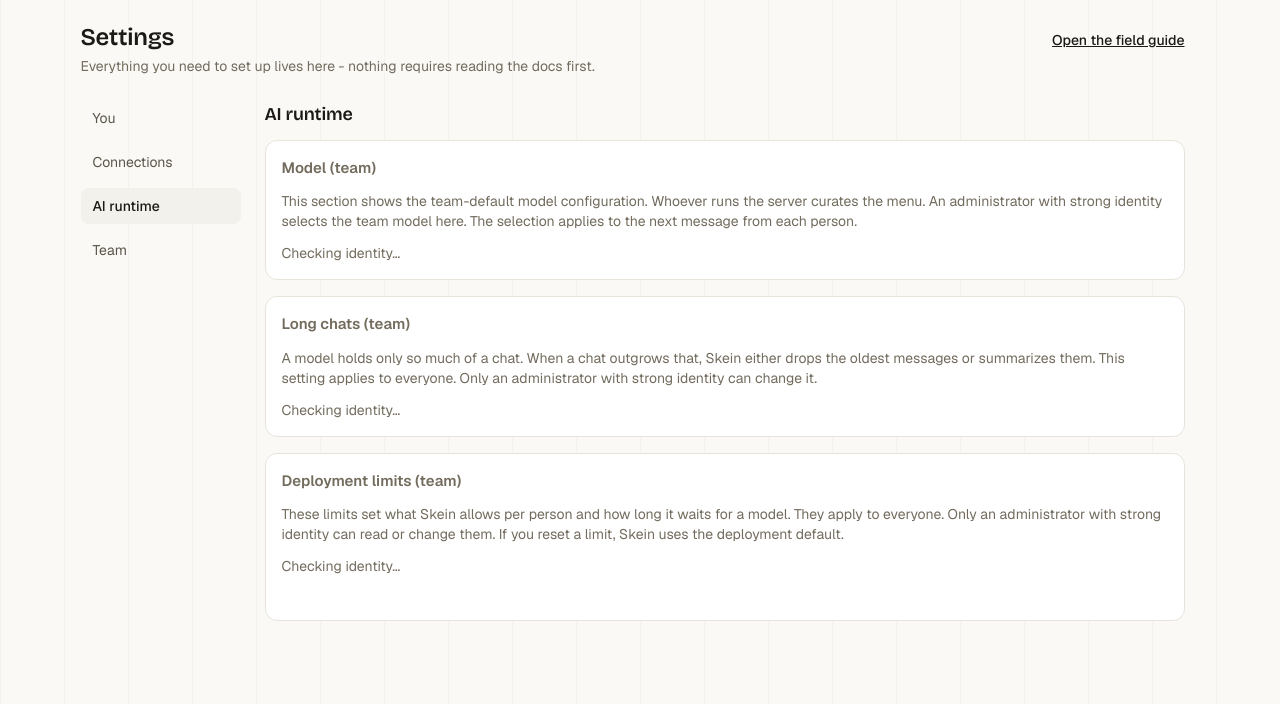
Scenario: the model section › keeps a stored pick visible and clearable when the menu vanishes
Click the link "AI runtime" at (160, 206), box [80,188,240,224]
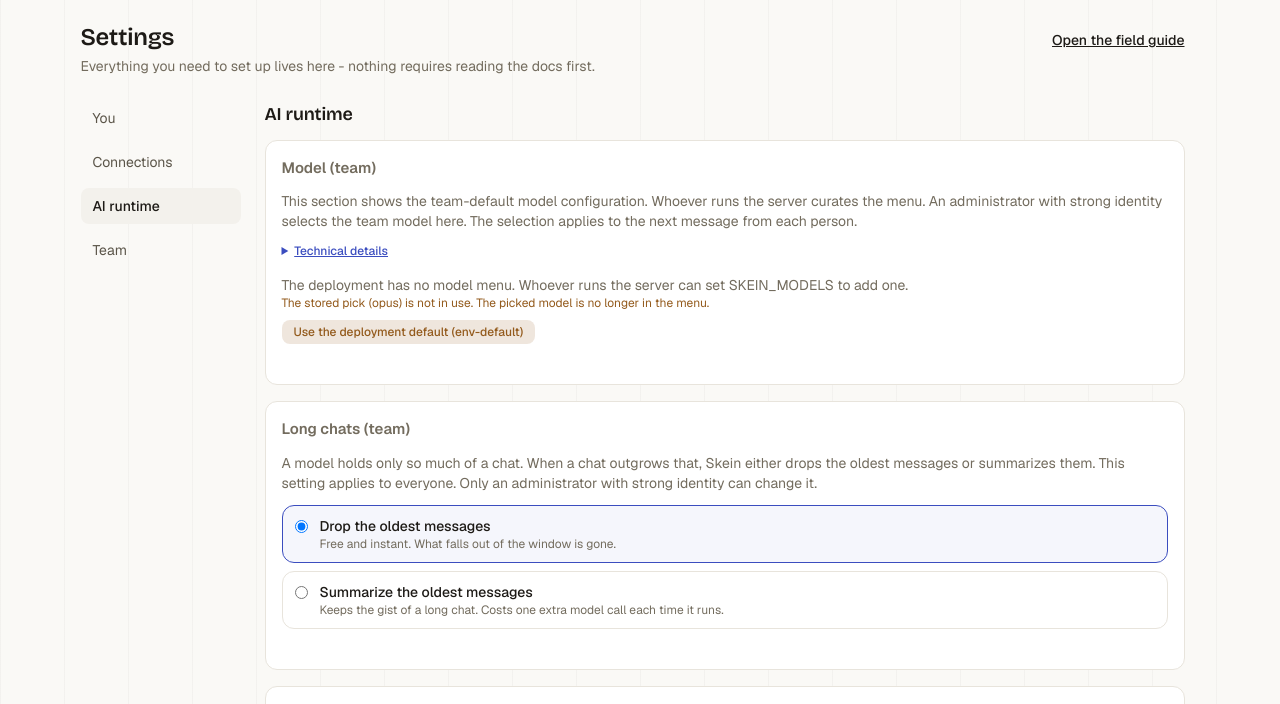
expect the text "is not in use" shows "opus": met, box [372,295,399,311]
expect the button "Use the deployment default (env-default)" is shown: met, box [282,320,535,344]
